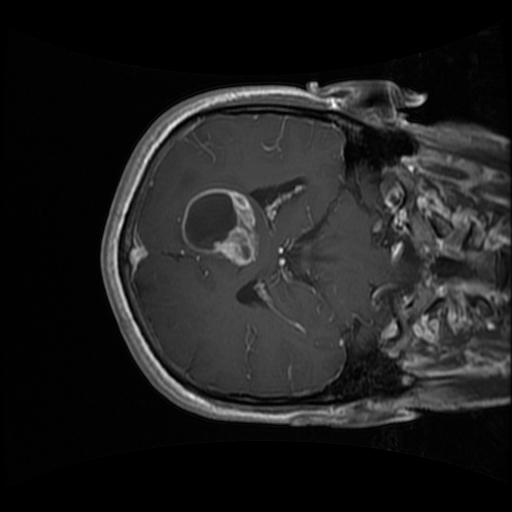glioma: (178, 185, 261, 270)
